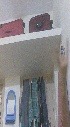hand: (54, 37, 69, 79)
